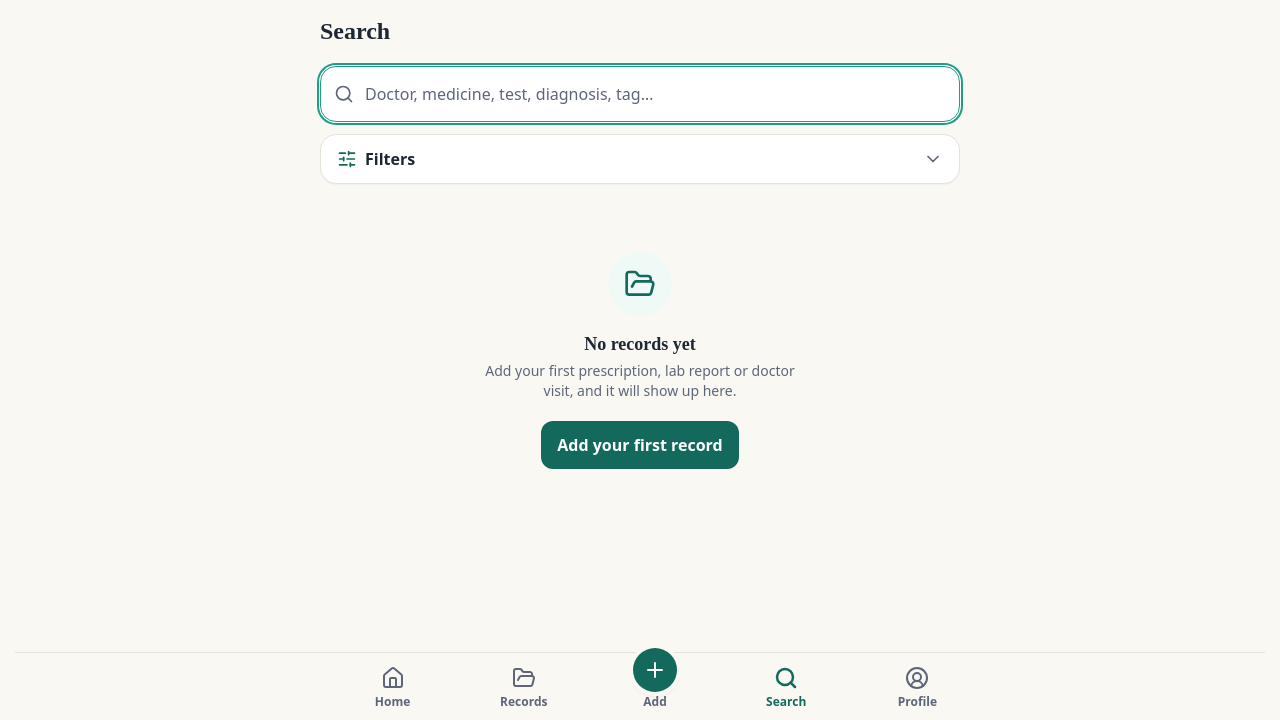
home and records › searches as you type and shows matches
Type "thyroid" into the search field named "Search records" at [640, 94], box [320,66,960,122]
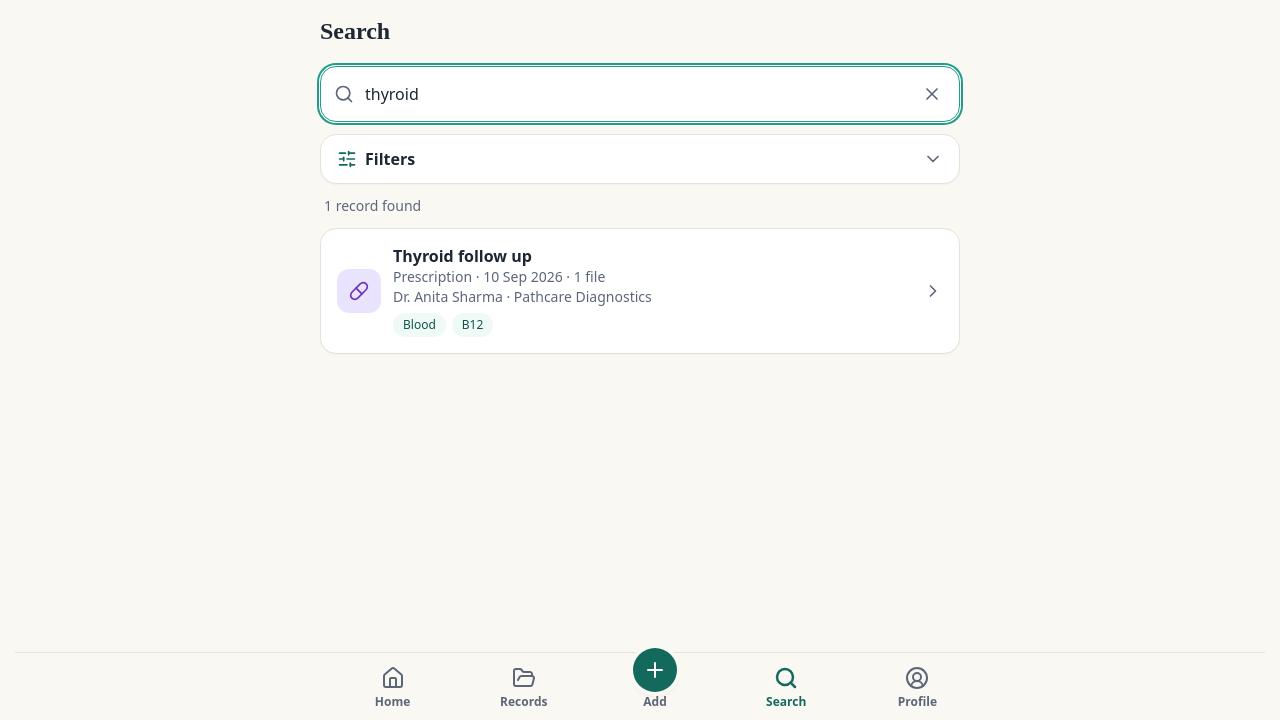
Expected: the text "Thyroid follow up" is shown, [393,245,532,267]
Expected: the text "1 record found" is shown, [324,196,421,216]
